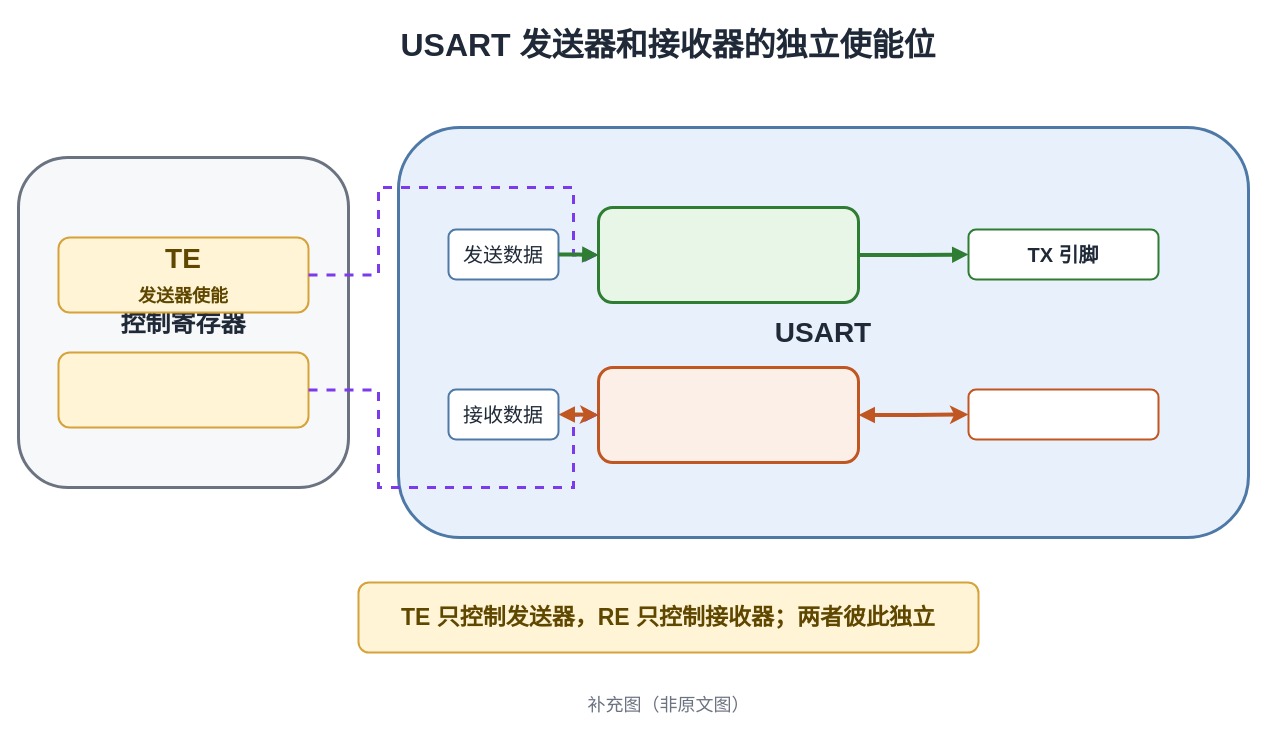
The diagram is 1267 pixels wide and 739 high, and some of its shapes have lost their labels. The centre of each missing label's shape, as x and y in pixels:
RE 接收器使能: the point at 183,389
RX 引脚: the point at 1063,414
发送器 Transmitter: the point at 728,255
接收器 Receiver: the point at 728,415
